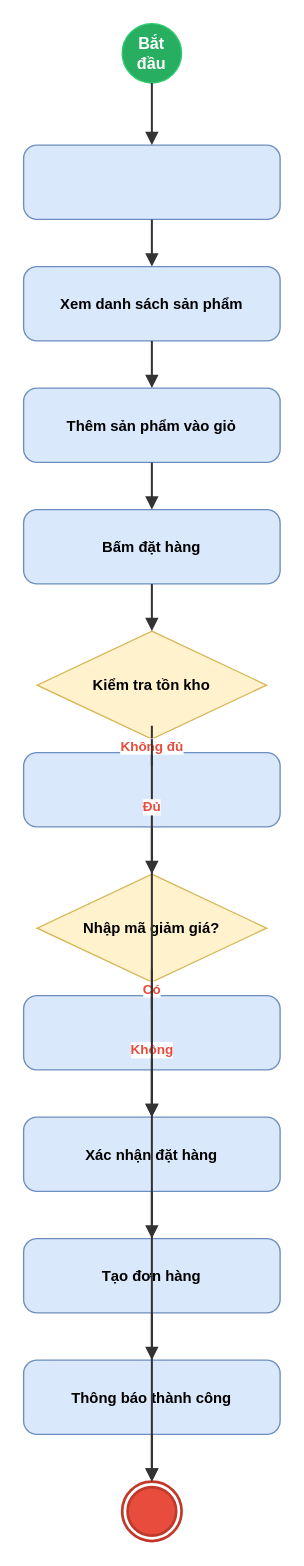
This 304x1566 diagram has some shape labels left out. Each missing label, with the box of its shape:
Khách hàng đăng nhập: (22, 144, 280, 219)
Kết thúc: (120, 1480, 182, 1542)
Thông báo lỗi: (22, 751, 280, 827)
Áp dụng giảm giá: (22, 994, 280, 1070)
